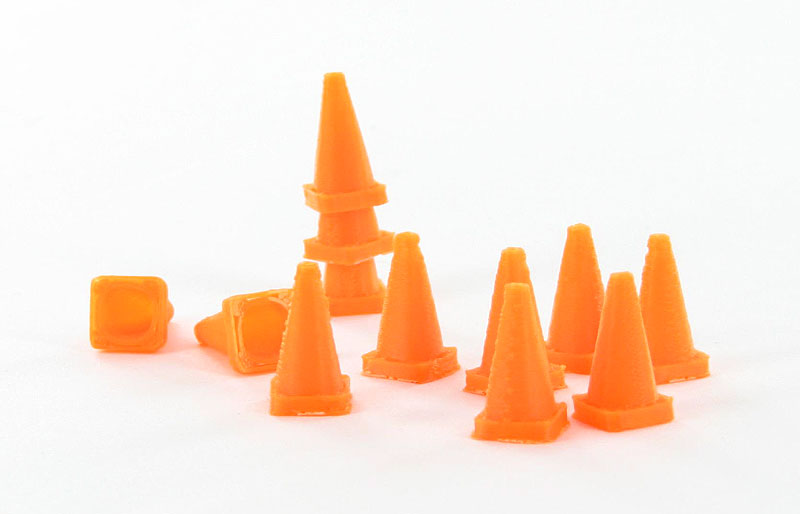orangeC: (286, 66, 405, 223)
